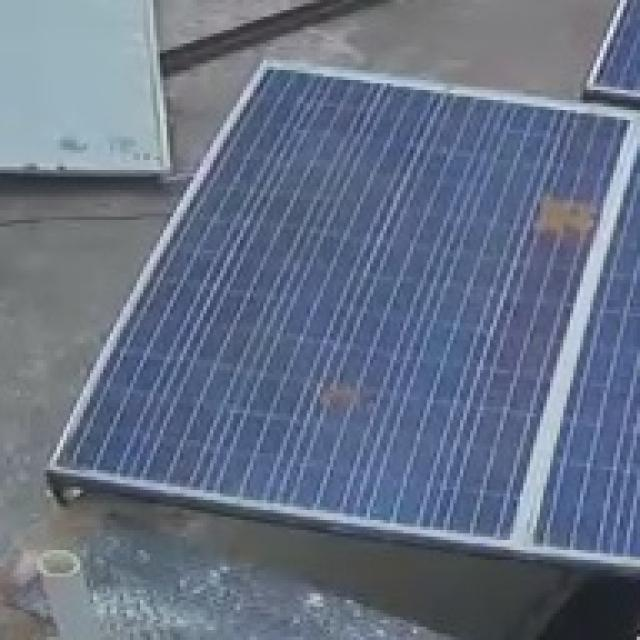Dusty: (520, 186, 605, 237), (302, 373, 373, 416)
